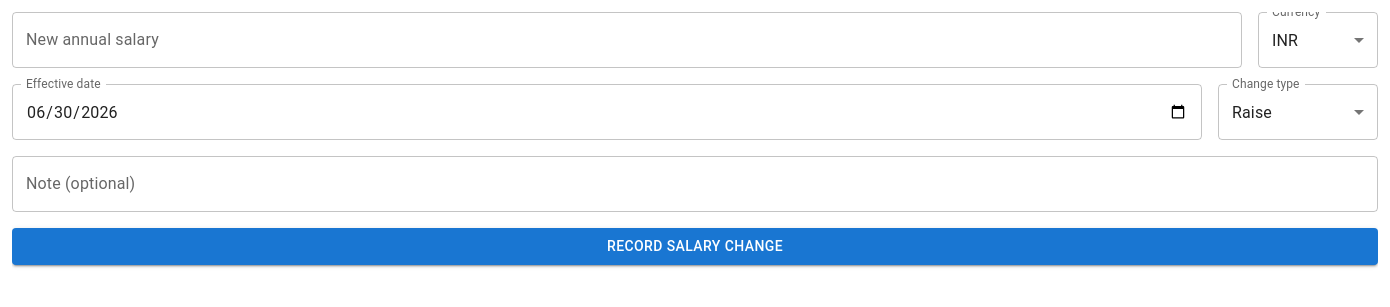
Test: SalaryChangeForm › shows field errors returned by the server next to the field
Type "100000" into the field labelled "New annual salary". click: (627, 40)
box: [12,12,1242,68]
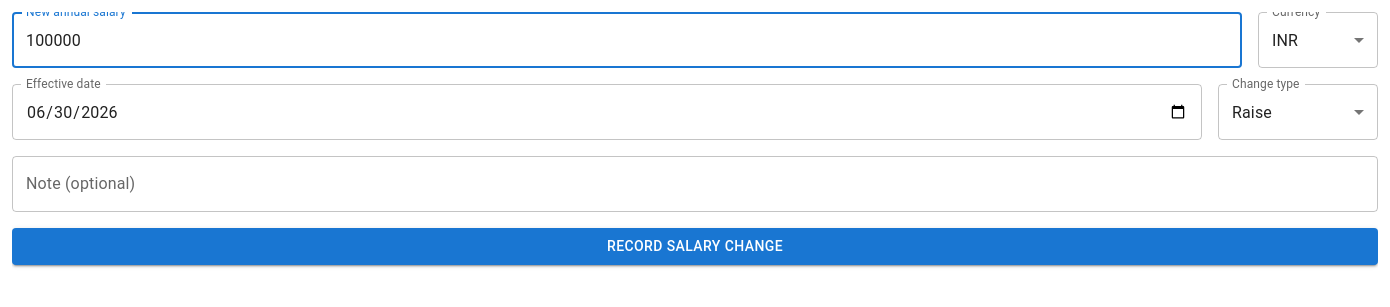
Click the button "Record salary change". click: (695, 246)
box: [12,228,1378,264]
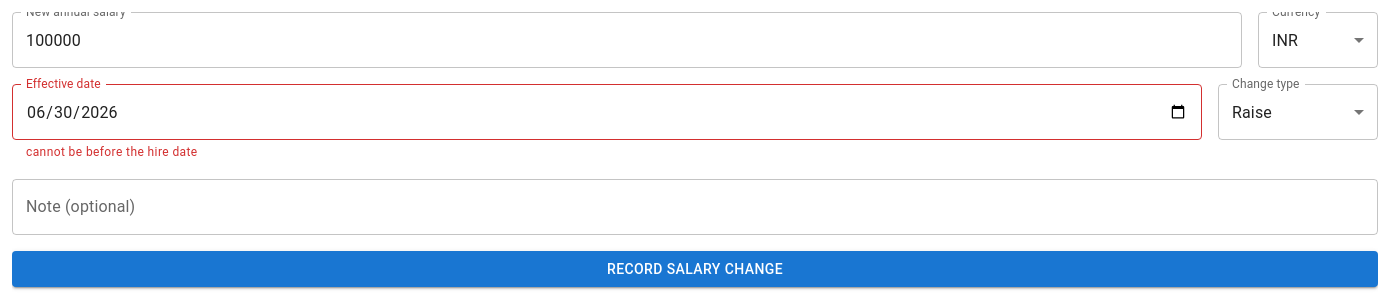
Expected: the text "cannot be before the hire date" is shown, [26,145,198,159]
